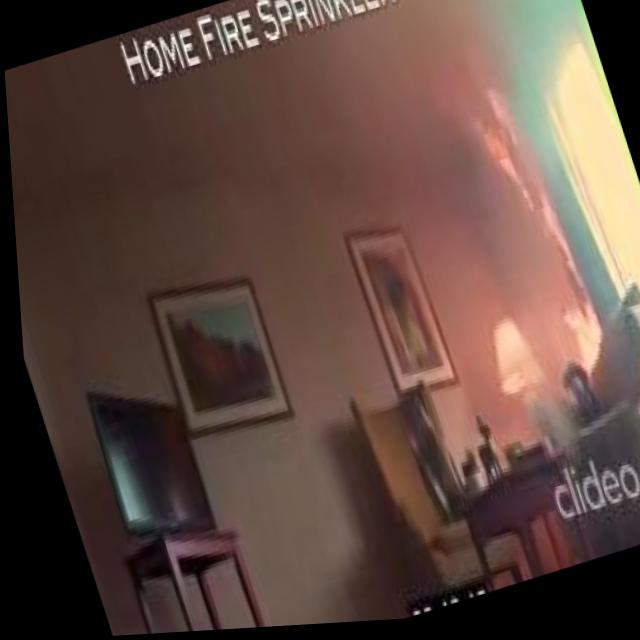fire: (460, 68, 573, 290), (546, 291, 610, 388)
